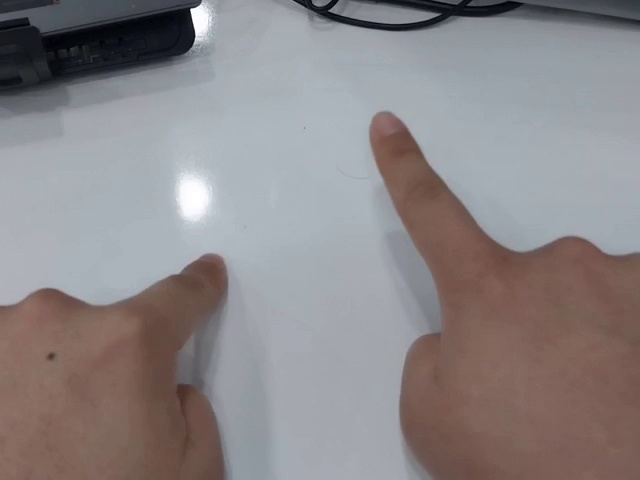fingers: (368, 111, 425, 172), (178, 251, 229, 311)
